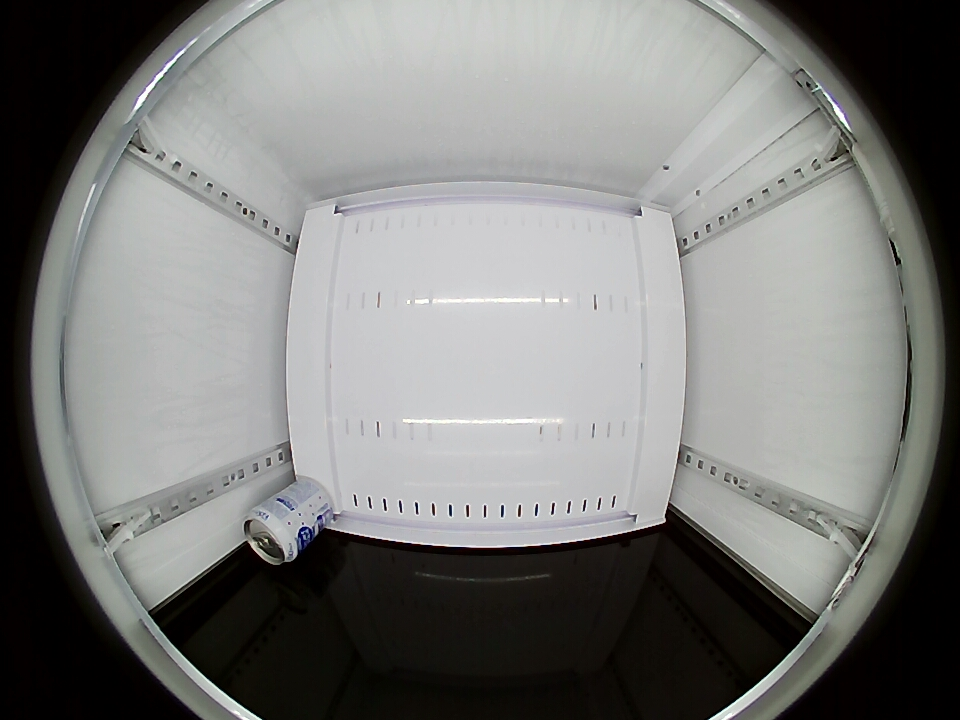rusuanjunqishui: (242, 501, 307, 565)
